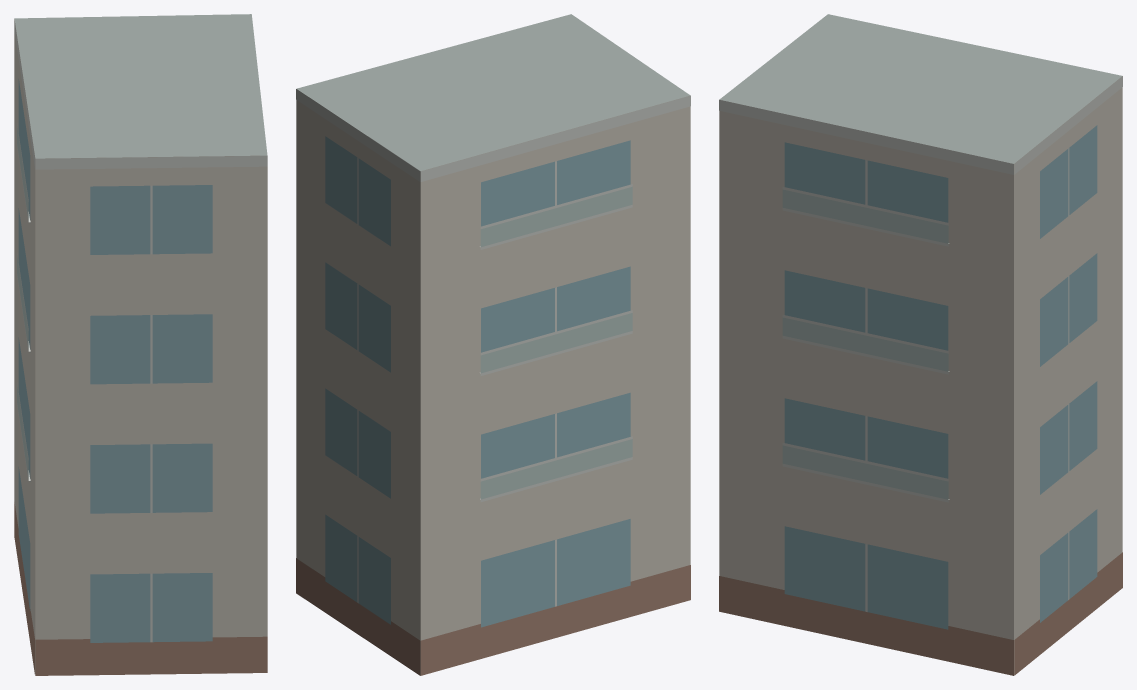
Rendered from survey-upis-32728717.glb.
3 renders of one model, left to right at view 1: azimuth 30°, elevation 25°; view 2: azimuth 150°, elevation 25°; view 3: azimuth 270°, elevation 25°, orthographic. The views are drawn at different scales.
Visible parts, largest first — view 1: survey-upis-32728717.tmp; view 2: survey-upis-32728717.tmp; view 3: survey-upis-32728717.tmp.
Part boxes in pixels (x1=…): survey-upis-32728717.tmp: x1=14, y1=14, x2=267, y2=675; survey-upis-32728717.tmp: x1=296, y1=14, x2=690, y2=675; survey-upis-32728717.tmp: x1=719, y1=14, x2=1122, y2=675.
Bounding box in the file's own units: 7.11 × 11.3 × 8.08.
